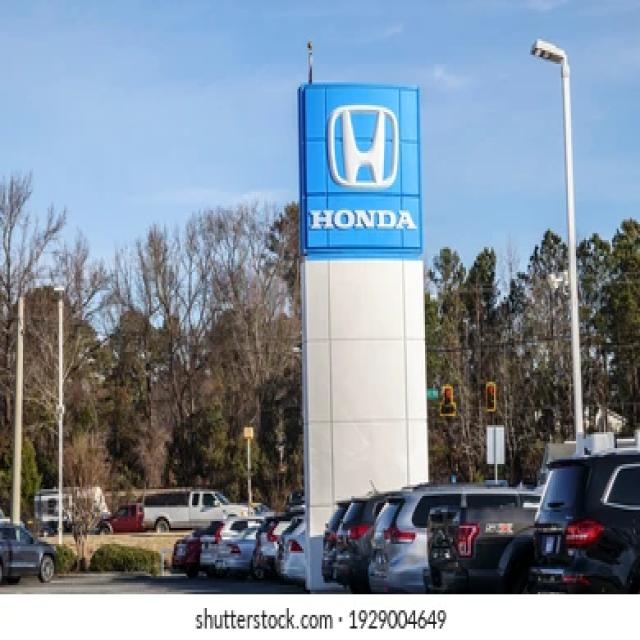honda: (325, 102, 400, 191)
